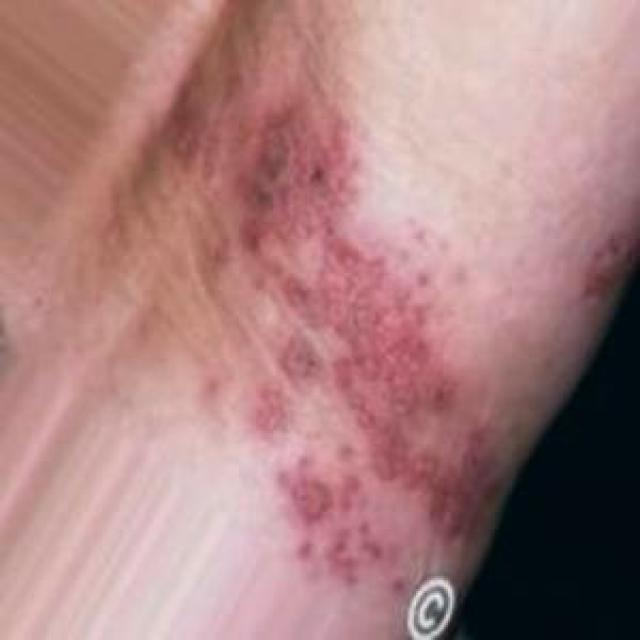Shingles: (212, 114, 496, 584)
